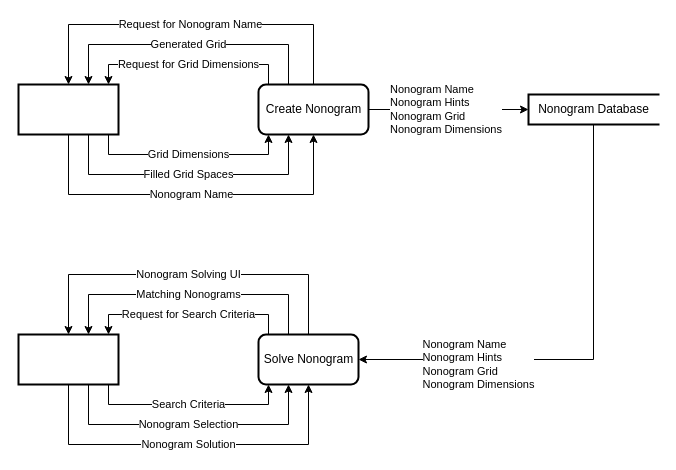
Image size: 676x470. Some labels were removed from this diagram. Each missing label, with the centre of its shape:
Creator: (68,109)
Solver: (68,359)
